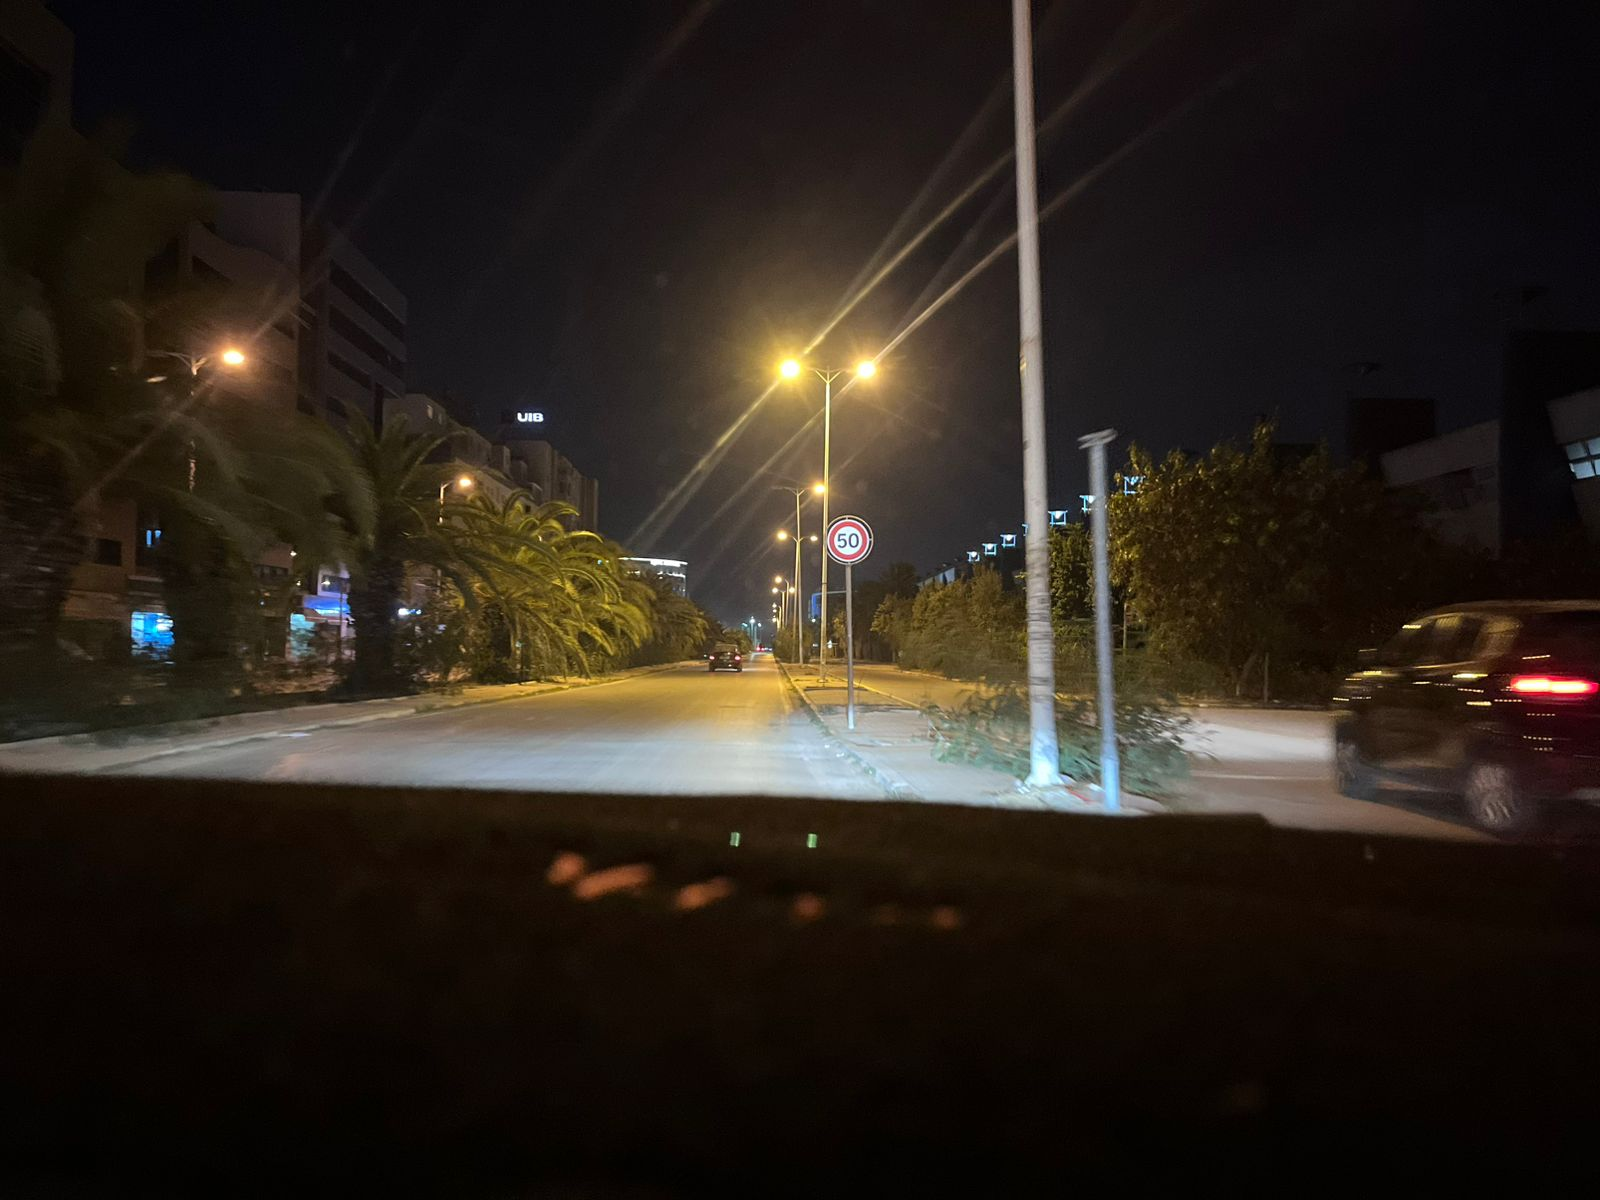SpeedLimit50: (825, 514, 874, 566)
